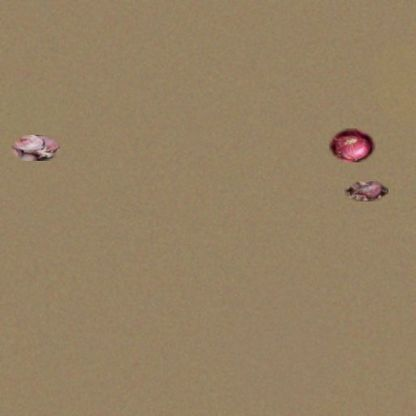healthy: (329, 128, 375, 162)
rotten: (344, 181, 388, 202)
sprouted: (11, 135, 60, 161)
